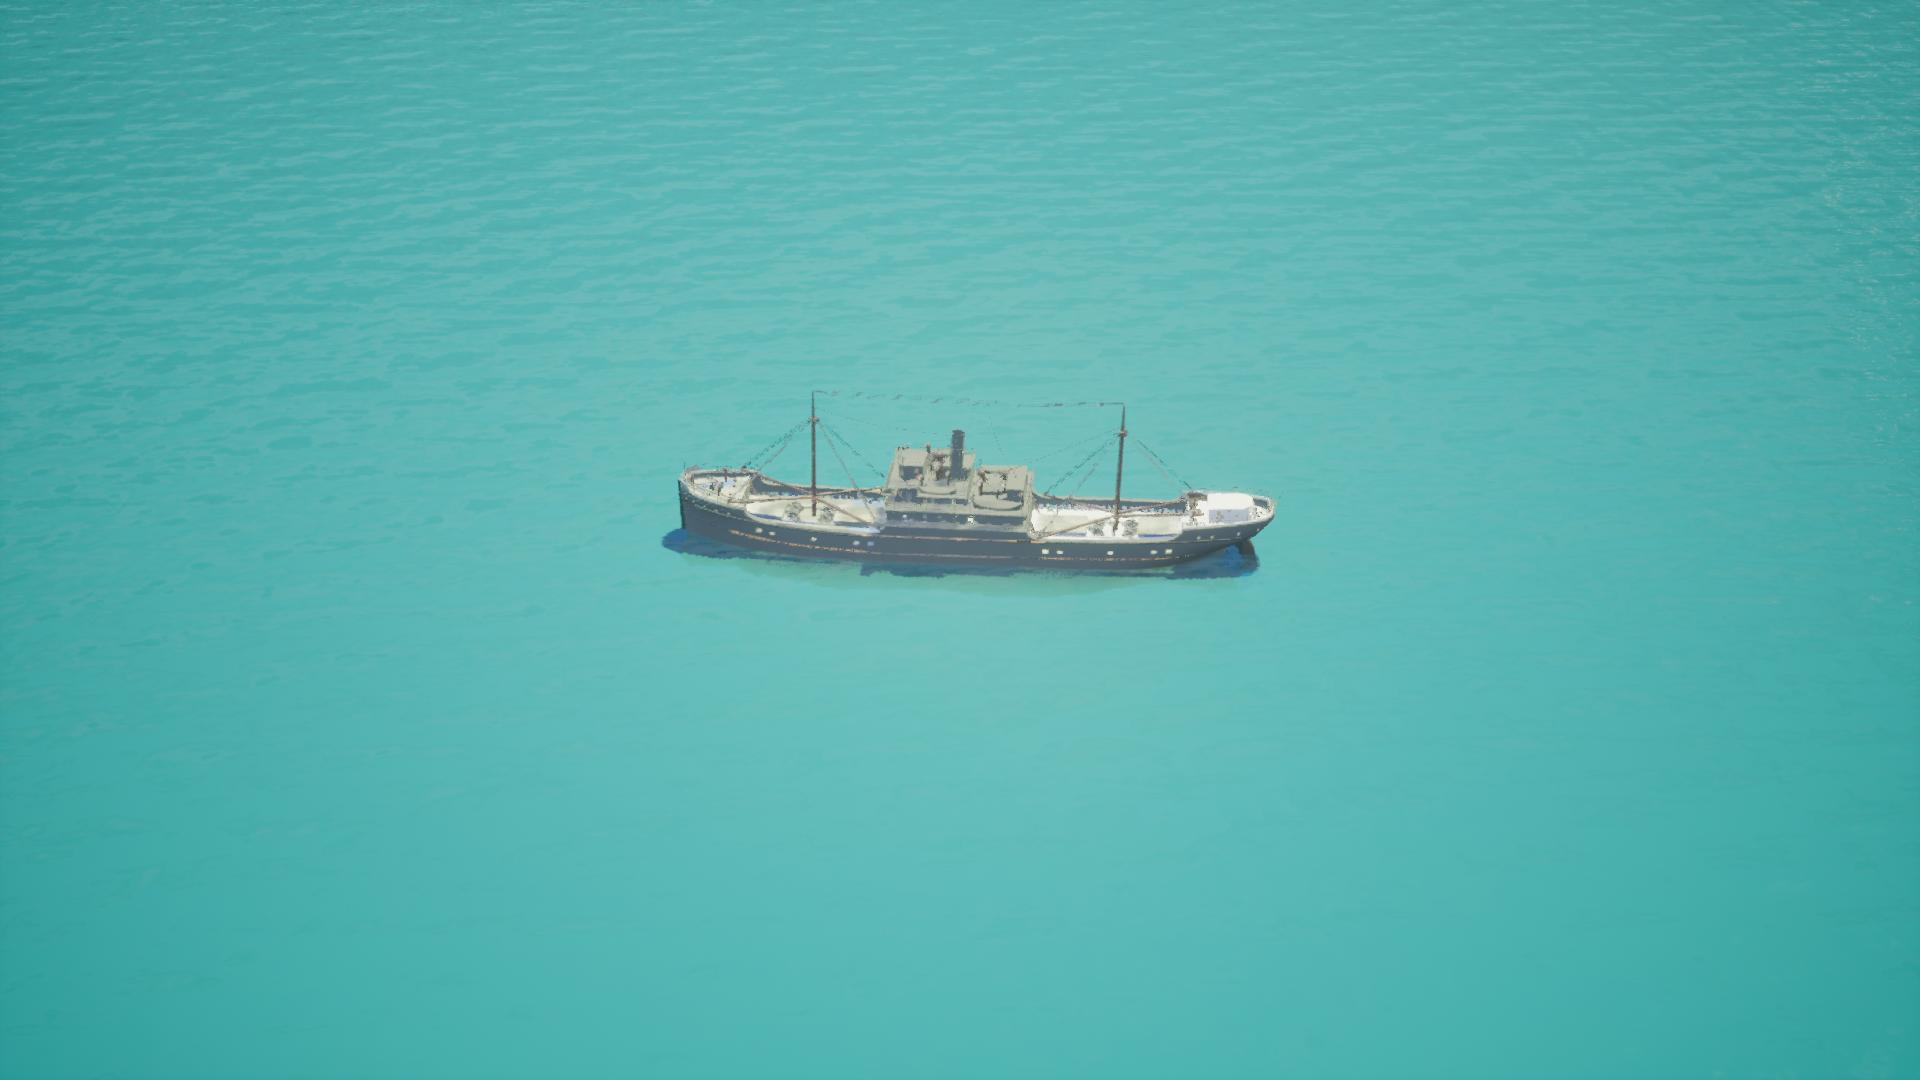Fishing Boat: (675, 393, 1273, 575), (671, 392, 880, 553)
